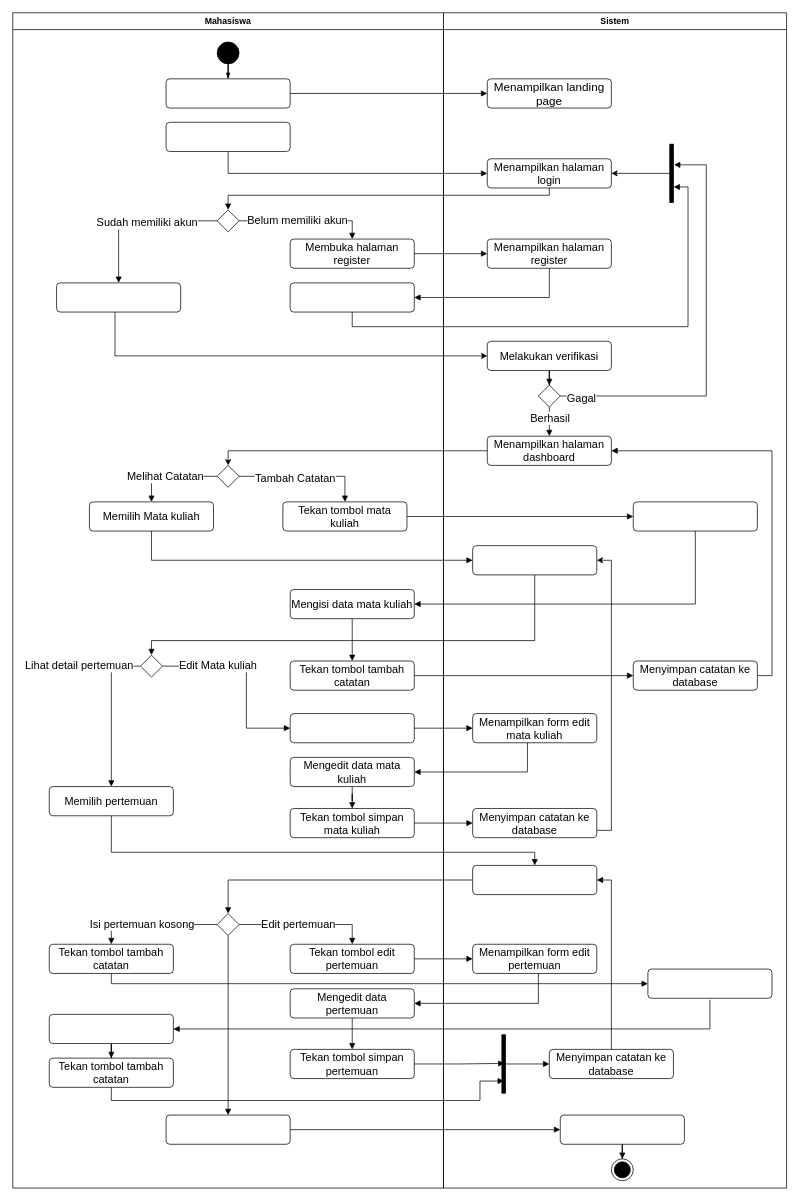
The diagram is 799 pixels wide and 1201 high, and some of its shapes have lost their labels. Each missing label, with the centre of its shape:
Logout: pixel 227 1129
Melakukan login: pixel 118 297
Melakukan register: pixel 351 297
Membuka Halaman Login: pixel 227 136
Membuka Website: pixel 227 93
menampilkan form tambah mata kuliah: pixel 695 516
Menampilkan form tambah pertemuan: pixel 709 983
Menampilkan halaman detail pertemuan: pixel 534 880
Menampilkan halaman landing page: pixel 622 1129
Menampilkan halaman pertemuan: pixel 534 560
Mengisi data pertemuan: pixel 111 1029
Tekan tombol edit mata kuliah: pixel 351 728
